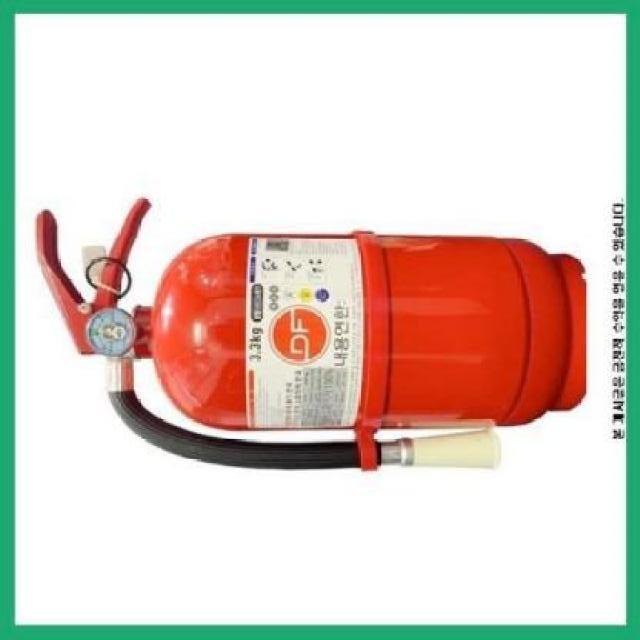fire extinguisher: (35, 197, 588, 472)
